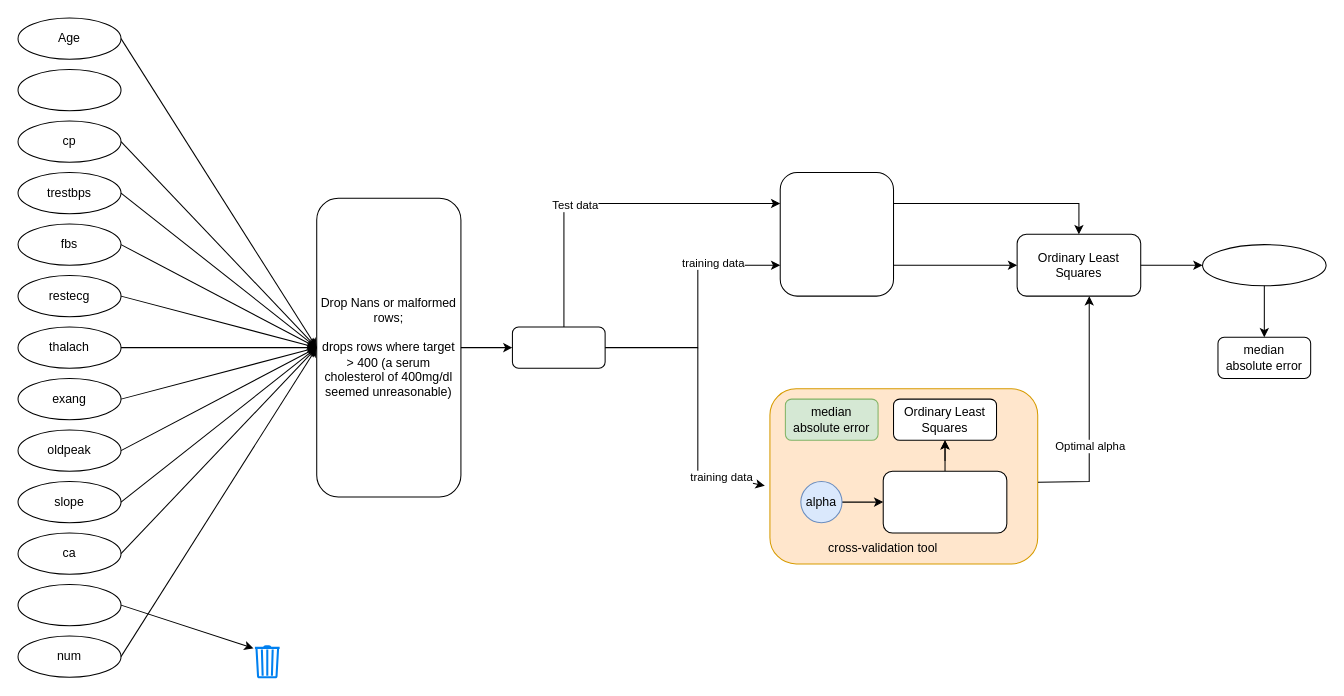
The diagram is 1344 pixels wide and 696 high, and some of its shapes have lost their labels. Here are the shapes that lost their labels. From the top down, the centre of each, then its label:
pixel 69 89: sex
pixel 836 233: RobustScaler
pixel 1263 265: Cholesterol("chol")
pixel 558 347: train-test split
pixel 944 501: Ridge loss function (penalizes large magnitudes)
pixel 69 604: thal
